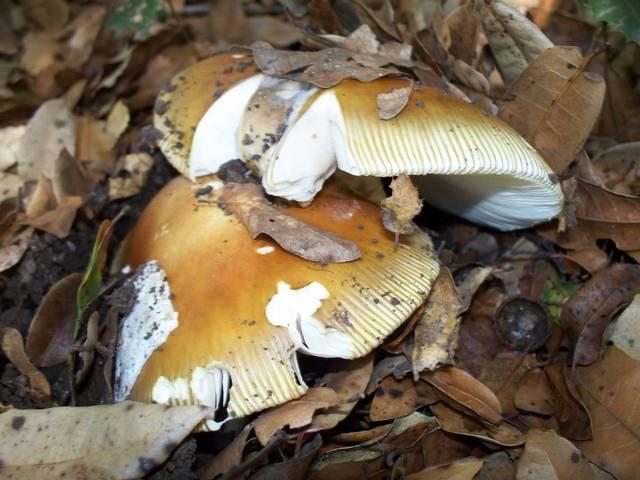edible_mushroom: (108, 170, 441, 428), (151, 46, 565, 237)
